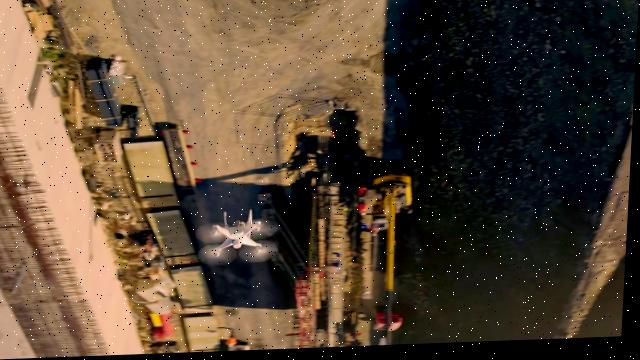drone: (197, 211, 285, 270)
